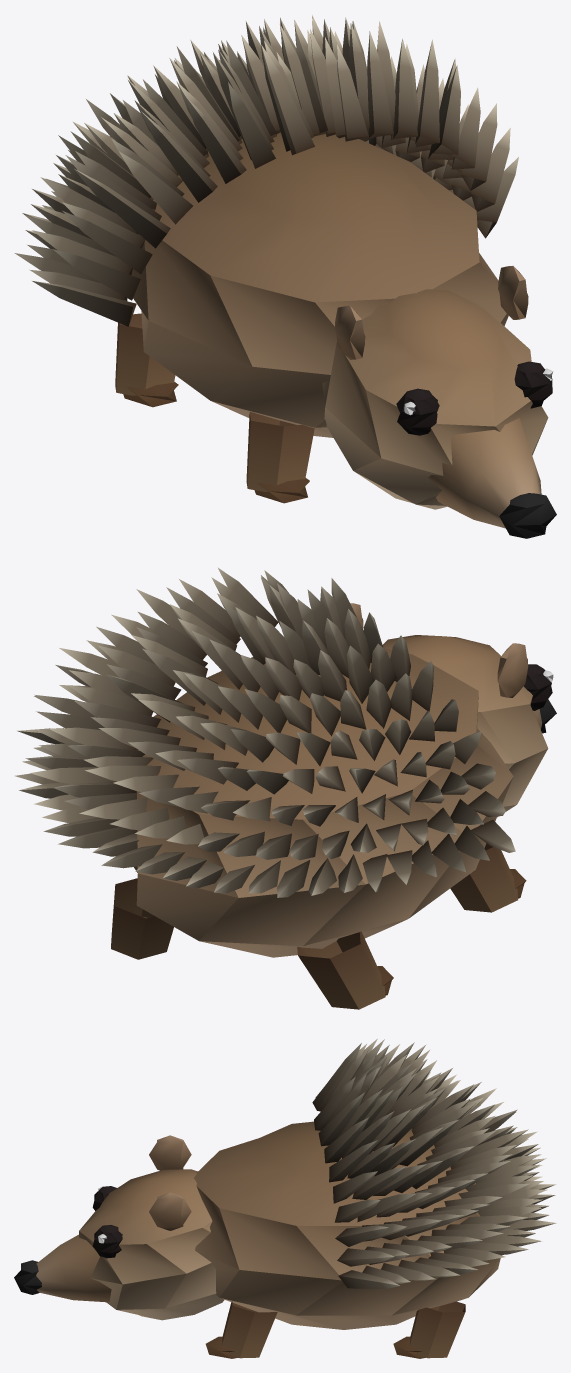
File: thistlehog.glb
The picture shows the model from 3 angles, top to bottom: view 1: azimuth 30°, elevation 25°; view 2: azimuth 150°, elevation 25°; view 3: azimuth 270°, elevation 25°; orthographic projection. The views are drawn at different scales.
Parts seen in each view (by area): view 1: body, head, leg_FR, leg_BR; view 2: body, head, leg_BR, leg_BL, leg_FR; view 3: body, head, leg_BL, leg_FL.
Boxes of the visible parts, x1,y1,x2,y2 form: body: [14, 15, 518, 437]; head: [322, 266, 556, 538]; leg_FR: [246, 411, 314, 503]; leg_BR: [115, 313, 178, 407]; body: [15, 568, 515, 957]; head: [350, 603, 556, 817]; leg_BR: [297, 931, 393, 1009]; leg_BL: [111, 878, 173, 959]; leg_FR: [450, 843, 526, 912]; body: [193, 1038, 556, 1329]; head: [14, 1135, 224, 1320]; leg_BL: [393, 1301, 465, 1358]; leg_FL: [205, 1301, 277, 1358].
Bounding box in the file's own units: 0.8205 × 0.5865 × 1.1.
